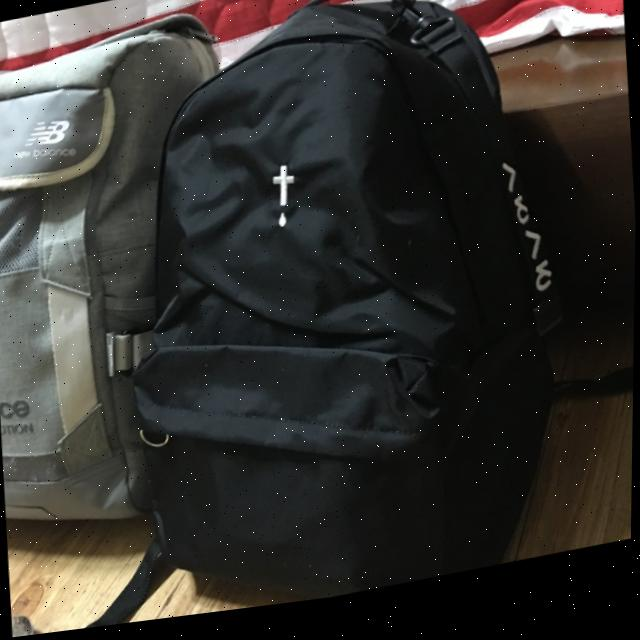backpack: (100, 0, 593, 629)
